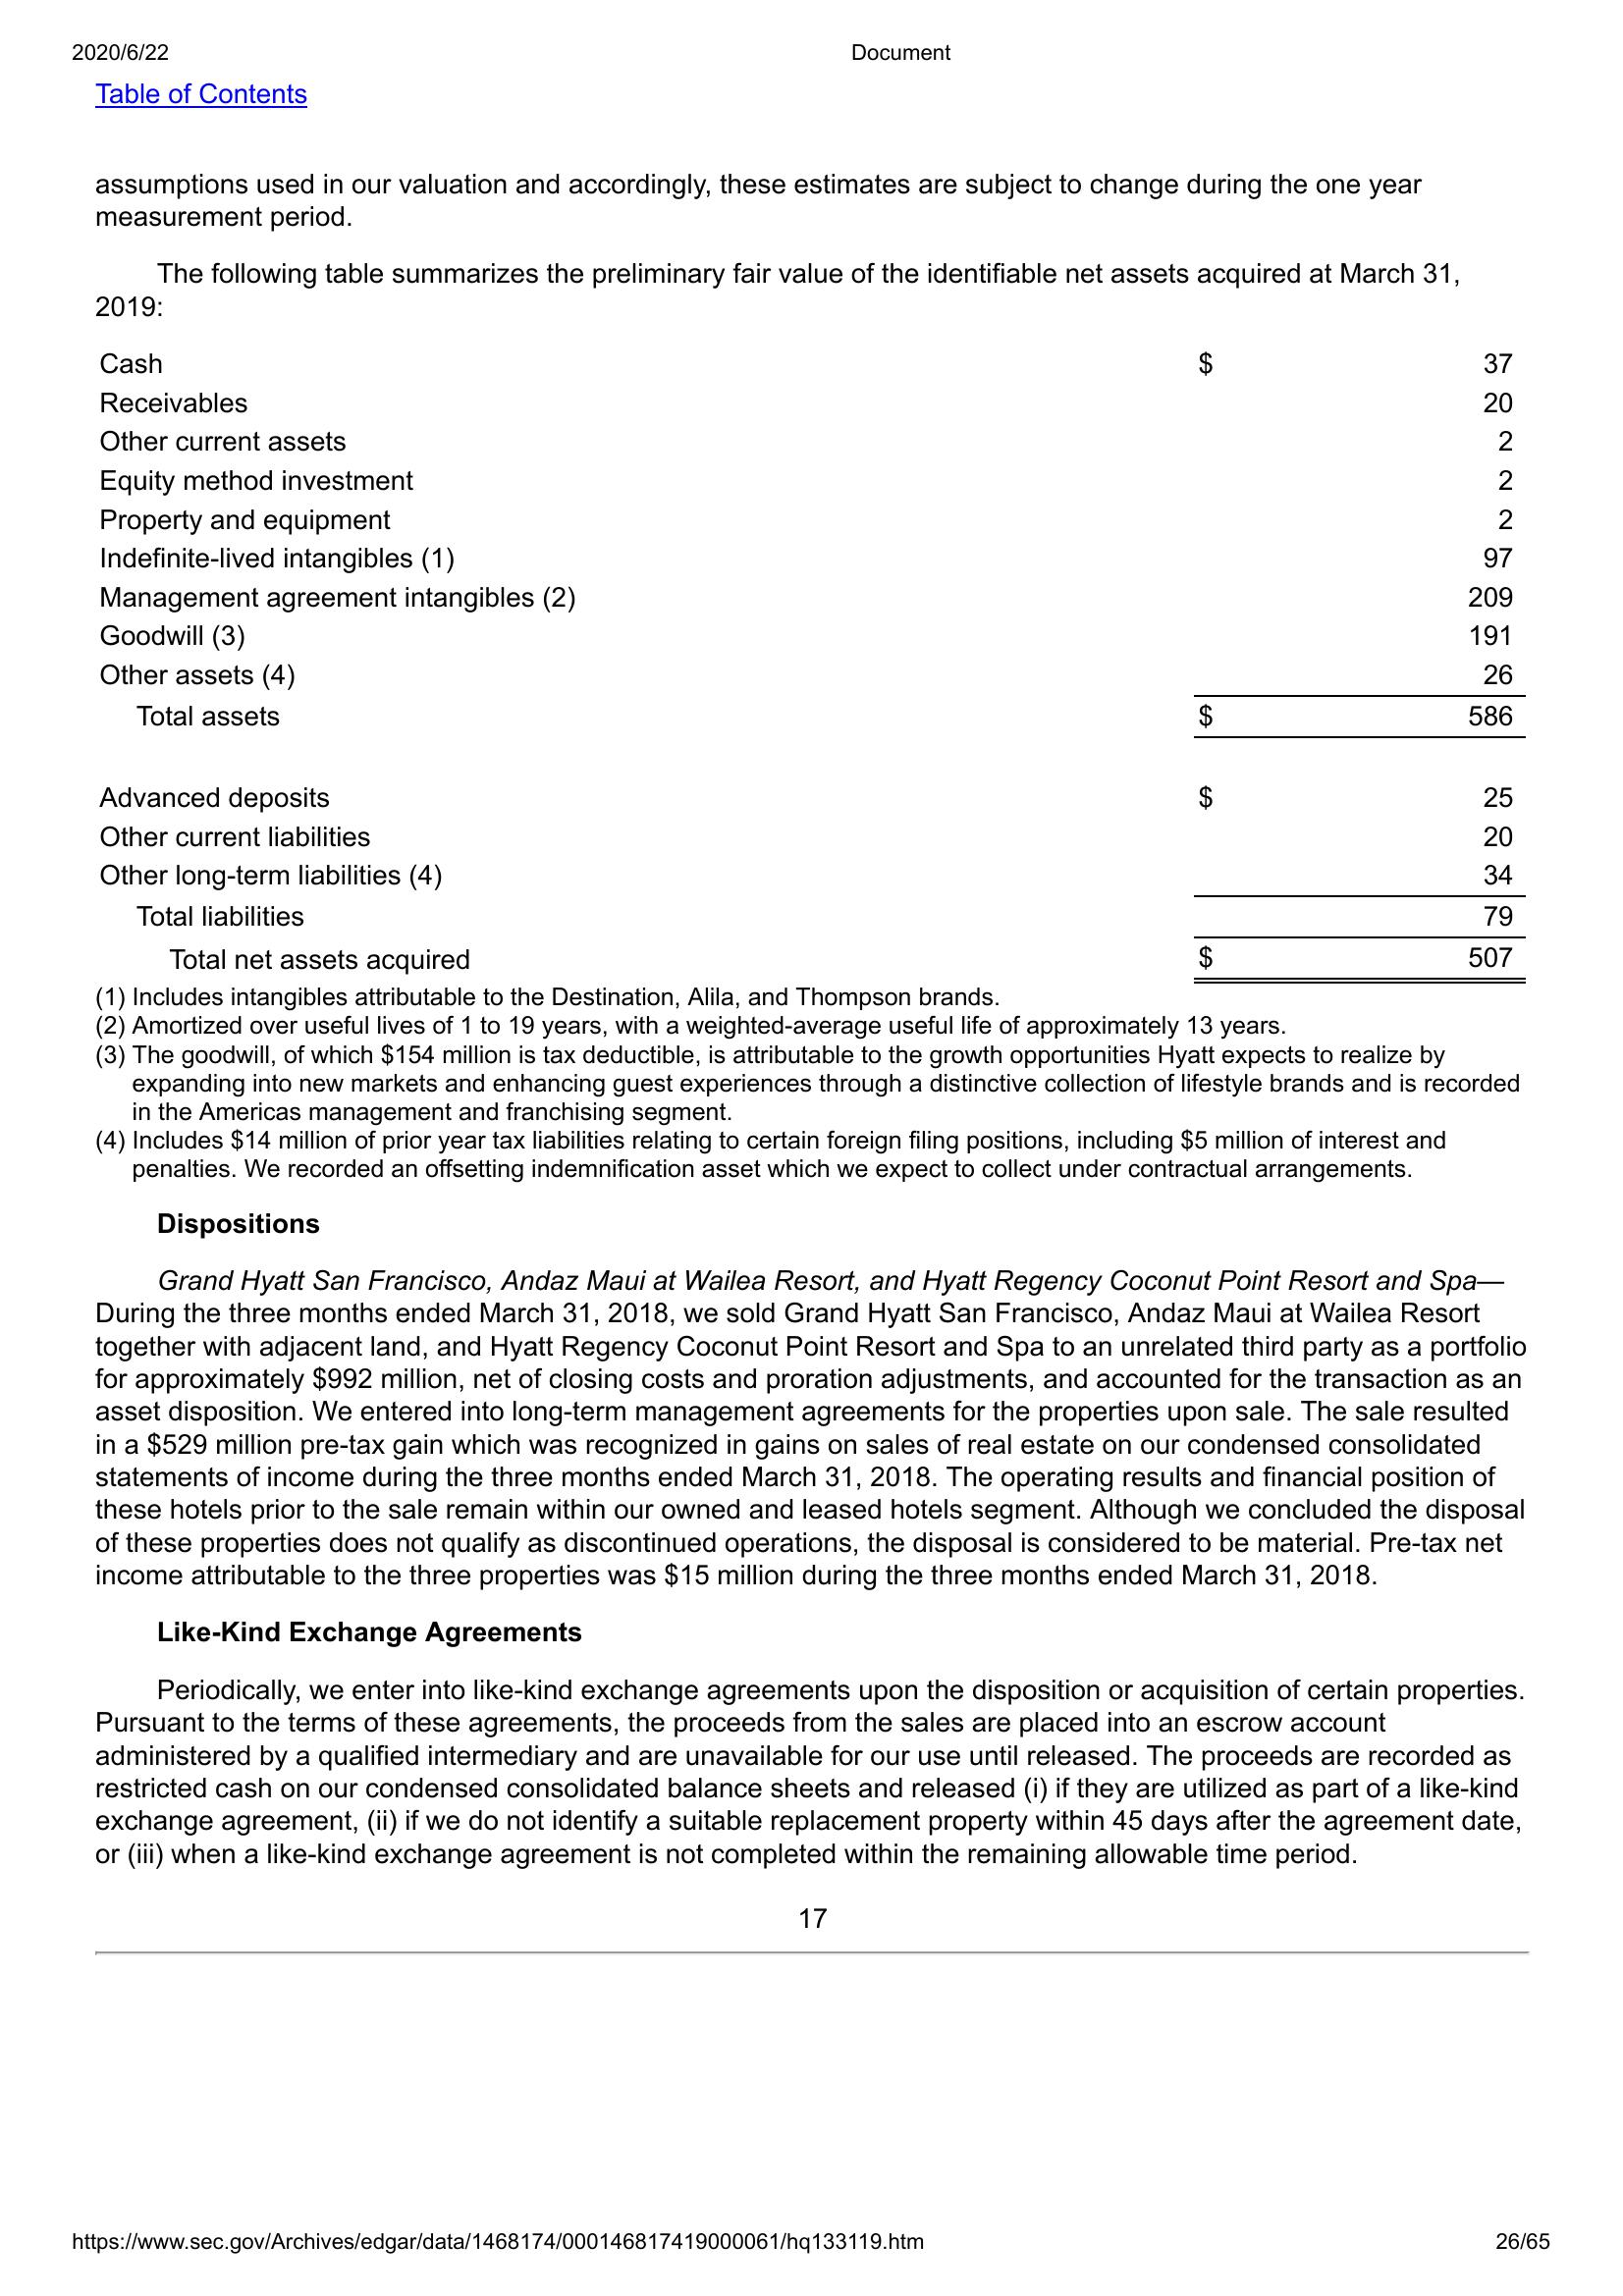table: (91, 335, 1539, 988)
